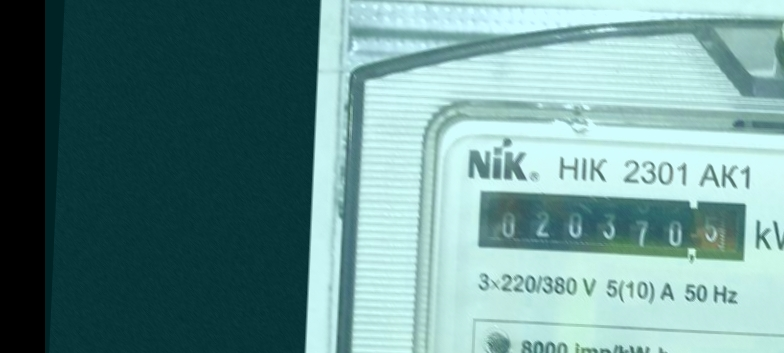0: (666, 218, 686, 249), (500, 208, 518, 238), (568, 209, 584, 238)
2: (534, 208, 553, 240)
3: (601, 210, 618, 241)
5: (702, 212, 722, 244)
7: (633, 217, 650, 248)
screen: (471, 183, 756, 271)
